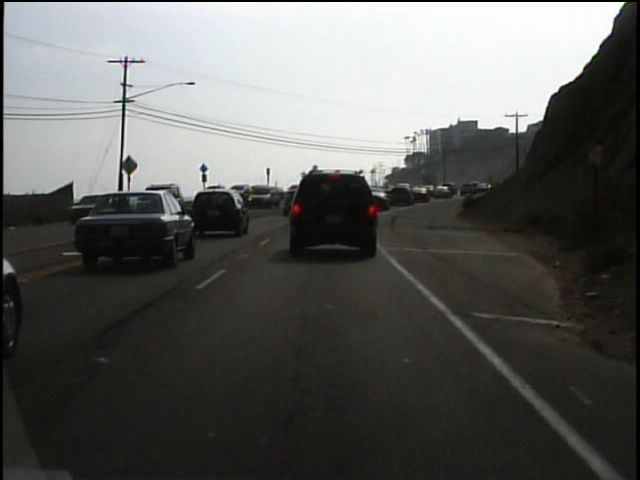car: (285, 160, 379, 259), (74, 191, 194, 266), (187, 184, 254, 235), (249, 183, 279, 209), (389, 184, 411, 205)
strada: (4, 264, 640, 478)
